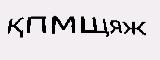Ж: (123, 17, 150, 36)
М: (50, 12, 76, 35)
П: (25, 11, 48, 35)
Щ: (79, 13, 108, 37)
Я: (108, 15, 122, 37)
Қ: (5, 14, 24, 39)
